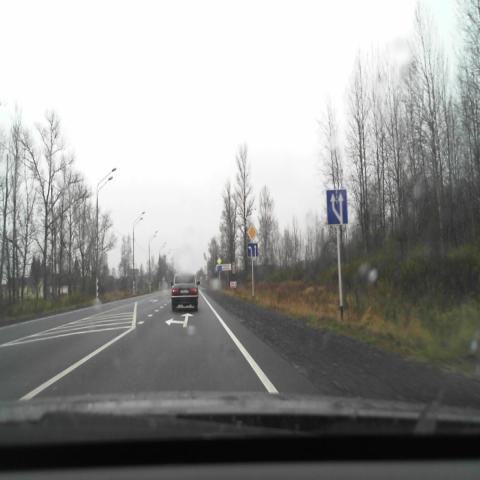5_15_2_2: (248, 244, 257, 257)
5_15_3: (326, 189, 348, 225)
